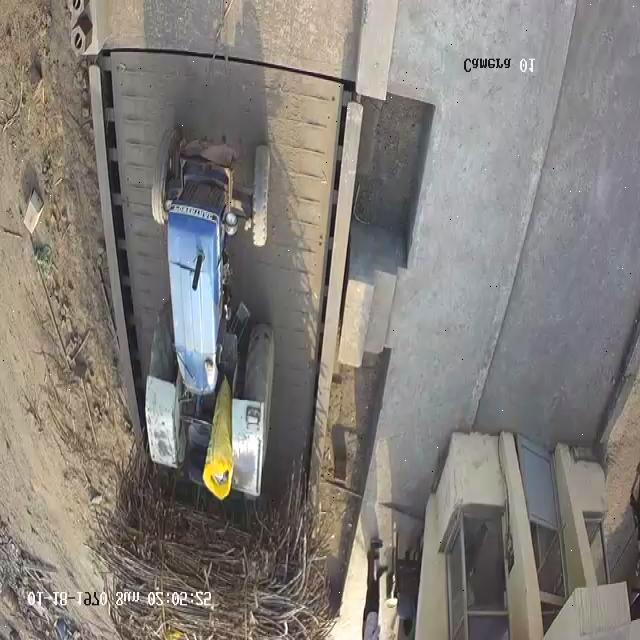Tratores - v5 YOLO V8L 2024-11-13: (141, 126, 278, 488)
